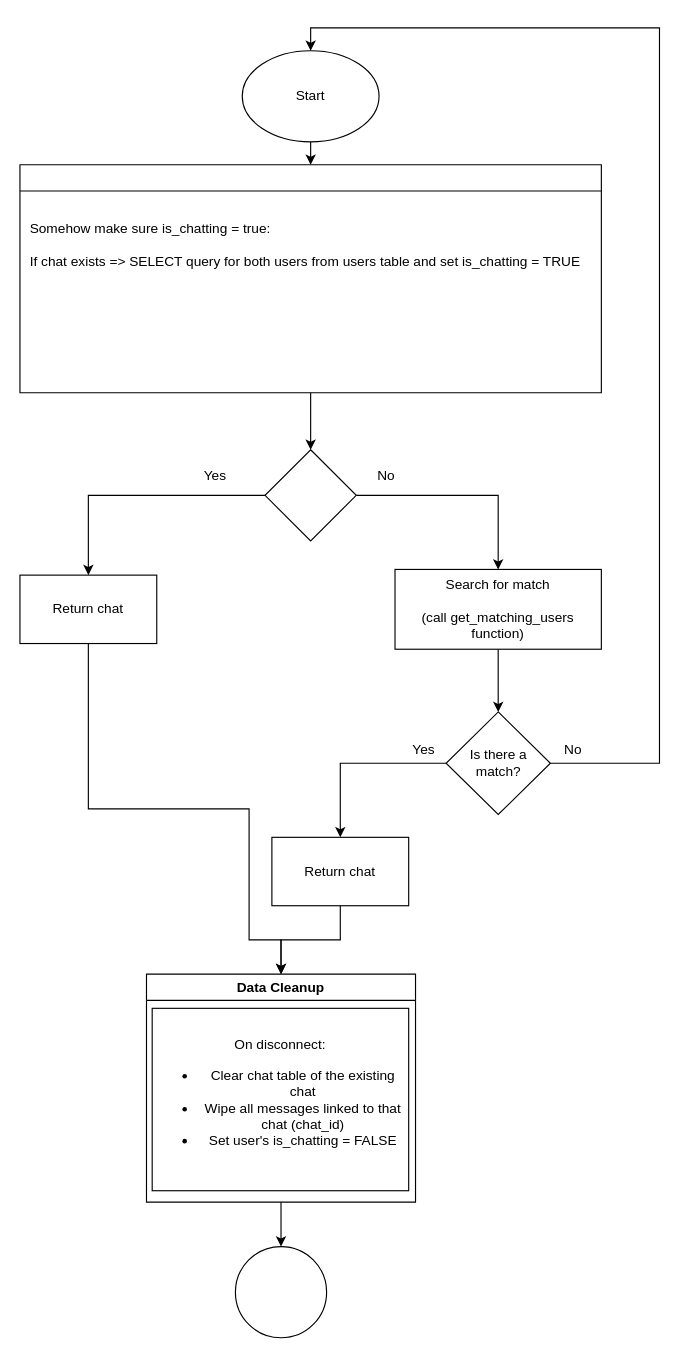
This 689x1358 diagram has some shape labels left out. The box of each missing label's shape, as (x1, y1, x2, y2) in pixels:
Check if chat exists: (19, 164, 601, 393)
End: (234, 1245, 327, 1338)
Exists?: (264, 449, 356, 541)
